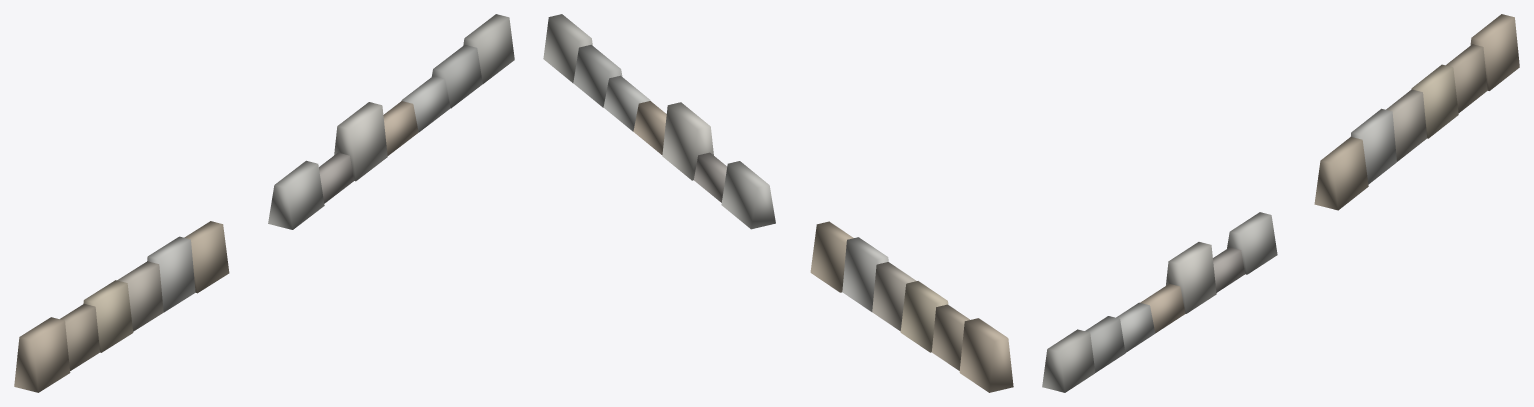
The model's file is farm_9_22_collision.glb.
3 renders of one model, left to right at view 1: azimuth 90°, elevation 25°; view 2: azimuth 150°, elevation 25°; view 3: azimuth 270°, elevation 25°, orthographic. The views are drawn at different scales.
Visible parts, largest first — view 1: geometry_0; view 2: geometry_0; view 3: geometry_0.
Boxes of the visible parts, x1,y1,x2,y2 form: geometry_0: (14,14,514,392); geometry_0: (543,14,1013,392); geometry_0: (1042,14,1519,392).
Size of the model in its own units: 20.53 by 1.9 by 12.66.
